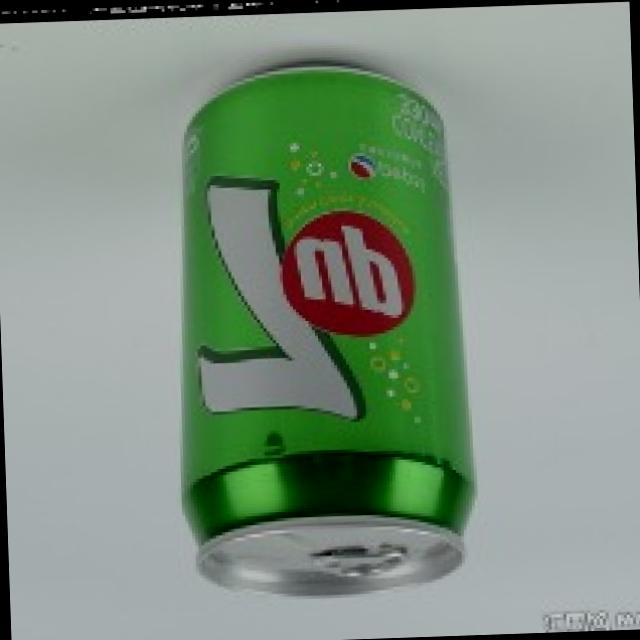kim_loai: (177, 59, 477, 599)
